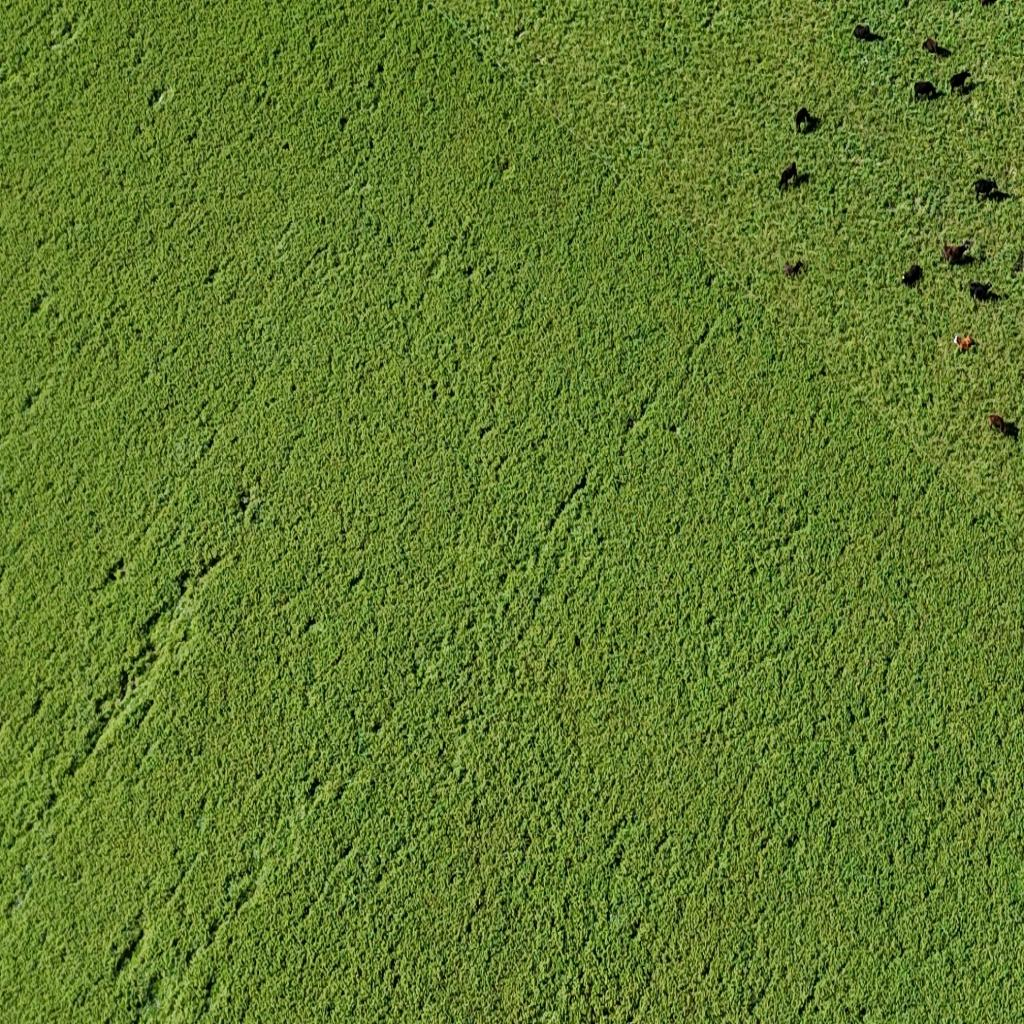cow: (988, 413, 1019, 439), (941, 240, 972, 266), (972, 178, 1005, 202), (969, 284, 997, 306), (923, 35, 952, 56), (852, 22, 882, 42), (948, 72, 972, 97), (795, 106, 818, 132), (778, 161, 798, 190), (913, 80, 939, 102), (901, 264, 923, 287), (953, 333, 974, 355), (782, 258, 802, 278)
